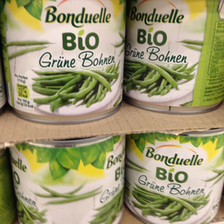beans: (4, 1, 127, 124), (127, 1, 220, 117), (9, 134, 123, 224), (125, 130, 224, 223)
